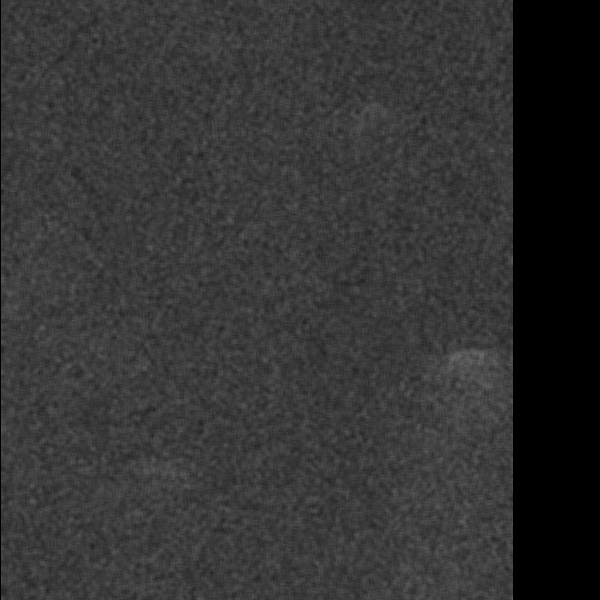spark: (202, 182, 267, 300), (368, 189, 404, 222)
